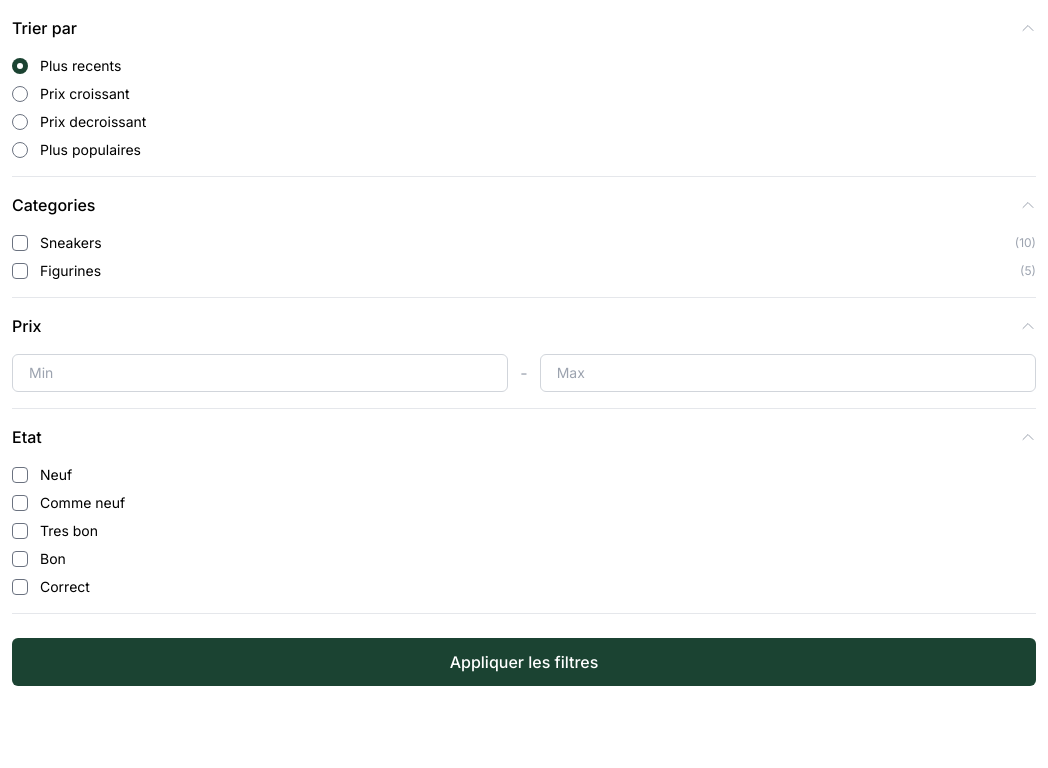
FilterSidebar › toggles filter sections when clicked
This screenshot has width=1048, height=768.
Expected: the text "Sneakers" is shown, [40,233,102,253]
Click to collapse
Click the button "Categories" at (54, 205), box [12,193,1036,217]
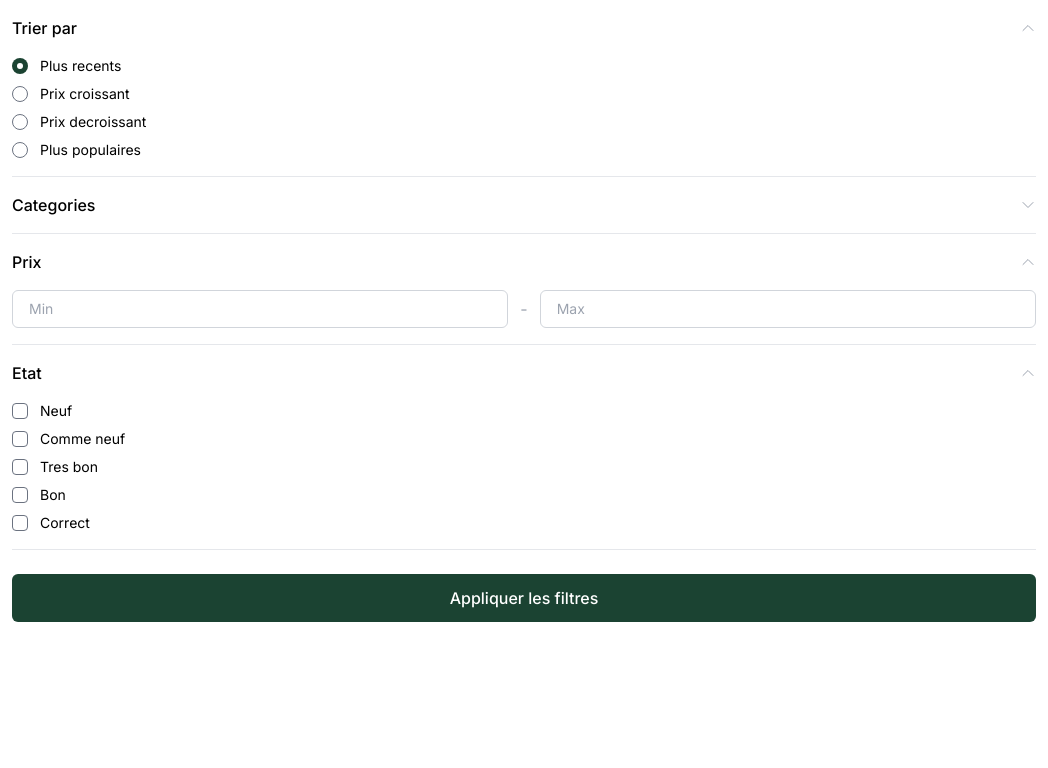
Result: the text "Sneakers" is gone
